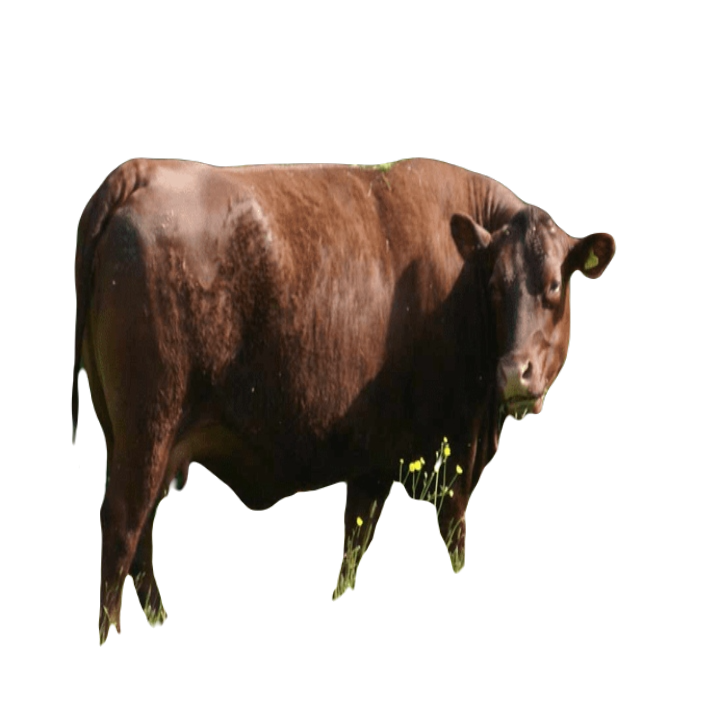Cow: (70, 156, 617, 635)
